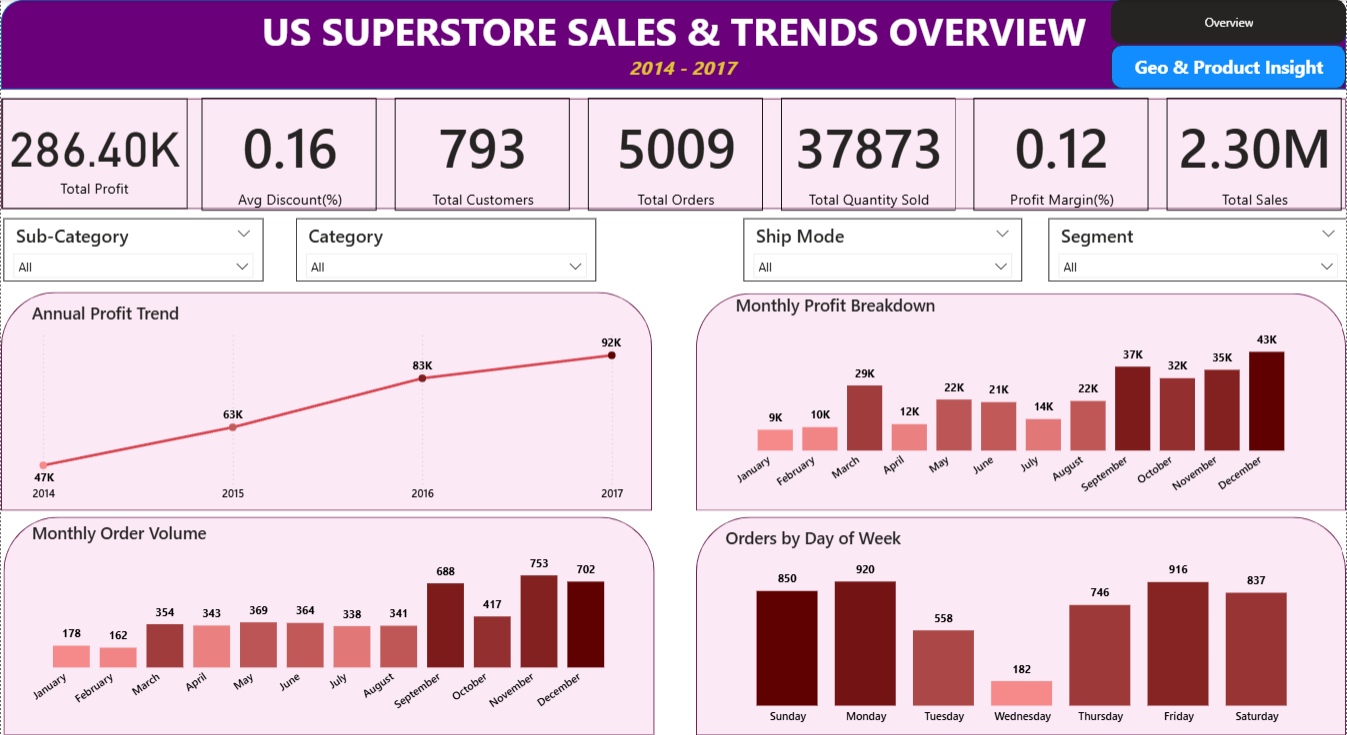

The page's visual inventory and layout, read from the dashboard file:
{"tool":"powerbi","page":{"name":"Overview","canvas":[1500,820],"ordinal":0},"visuals":[{"type":"shape","box":[0,110.3,1499.9,123.3],"z":500},{"type":"shape","box":[774.6,576.1,725.3,243.9],"z":1000},{"type":"shape","box":[2.6,576.1,725.3,243.9],"z":2000},{"type":"shape","box":[774.6,327,725.3,242.6],"z":3000},{"type":"shape","box":[0,325.7,725.3,243.9],"z":4000},{"type":"clusteredColumnChart","title":"Orders by Day of Week","fields":{"Category":["Orders.Day Name"],"Y":["Orders.Total Orders"]},"box":[801.8,587.8,672.1,229.7],"z":5000},{"type":"slicer","fields":{"Values":["Orders.Ship Mode"]},"box":[827.8,243.9,310.1,70.1],"z":6000},{"type":"slicer","fields":{"Values":["Orders.Category"]},"box":[328.3,243.9,334.7,70.1],"z":7000},{"type":"clusteredColumnChart","title":"Monthly Order Volume","fields":{"Y":["Orders.Total Orders"],"Category":["Orders.Month Name"]},"box":[29.8,582.6,669.5,229.7],"z":8000},{"type":"clusteredColumnChart","title":"Monthly Profit Breakdown","fields":{"Y":["Sum(Orders.Profit)"],"Category":["Orders.Month Name"]},"box":[813.5,327,642.2,242.6],"z":9000},{"type":"lineChart","title":"Annual Profit Trend","fields":{"Y":["Sum(Orders.Profit)"],"Category":["Orders.Year"]},"box":[29.8,337.3,669.5,232.2],"z":10000},{"type":"slicer","fields":{"Values":["Orders.Sub-Category"]},"box":[2.6,243.9,289.3,70.1],"z":11000},{"type":"cardVisual","fields":{"Data":["Avg(Orders.Discount)","Count(Orders.Customer ID)","Orders.Total Orders","Sum(Orders.Quantity)","Orders.Profit Margin","Sum(Orders.Sales)"]},"box":[218,103.8,1281.9,136.2],"z":12000},{"type":"slicer","fields":{"Values":["Orders.Segment"]},"box":[1166.4,243.9,333.4,70.1],"z":13000},{"type":"shape","box":[0,0,1500,100],"z":14000},{"type":"textbox","box":[0,0,1500,79.8],"z":15000},{"type":"textbox","box":[597.9,55.7,323.8,48.2],"z":16000},{"type":"pageNavigator","box":[1236.4,49.7,263.6,49.7],"z":17000},{"type":"pageNavigator","box":[1236.4,0,263.6,49.7],"z":18000},{"type":"card","fields":{"Values":["Sum(Orders.Profit)"]},"box":[1.3,110.3,206.3,123.3],"z":19000}]}

Visuals, with their boxes in screenshot pixels (x1, y1, x2, y2), scaled from the page's 1500x820 canvas onto the 1347x735 screenshot:
shape: pyautogui.locateOnScreen(0, 99, 1346, 209)
shape: pyautogui.locateOnScreen(696, 516, 1346, 734)
shape: pyautogui.locateOnScreen(2, 516, 654, 734)
shape: pyautogui.locateOnScreen(696, 293, 1346, 511)
shape: pyautogui.locateOnScreen(0, 292, 651, 511)
"Orders by Day of Week" clusteredColumnChart: pyautogui.locateOnScreen(720, 527, 1324, 733)
slicer - Orders.Ship Mode: pyautogui.locateOnScreen(743, 219, 1022, 281)
slicer - Orders.Category: pyautogui.locateOnScreen(295, 219, 595, 281)
"Monthly Order Volume" clusteredColumnChart: pyautogui.locateOnScreen(27, 522, 628, 728)
"Monthly Profit Breakdown" clusteredColumnChart: pyautogui.locateOnScreen(731, 293, 1307, 511)
"Annual Profit Trend" lineChart: pyautogui.locateOnScreen(27, 302, 628, 510)
slicer - Orders.Sub-Category: pyautogui.locateOnScreen(2, 219, 262, 281)
cardVisual - Avg(Orders.Discount) x Count(Orders.Customer ID): pyautogui.locateOnScreen(196, 93, 1346, 215)
slicer - Orders.Segment: pyautogui.locateOnScreen(1047, 219, 1346, 281)
shape: pyautogui.locateOnScreen(0, 0, 1346, 90)
textbox: pyautogui.locateOnScreen(0, 0, 1346, 72)
textbox: pyautogui.locateOnScreen(537, 50, 828, 93)
pageNavigator: pyautogui.locateOnScreen(1110, 45, 1346, 89)
pageNavigator: pyautogui.locateOnScreen(1110, 0, 1346, 45)
card - Sum(Orders.Profit): pyautogui.locateOnScreen(1, 99, 186, 209)
